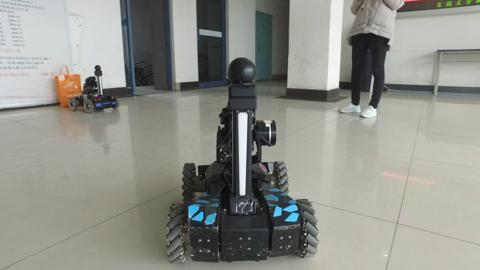bag: (52, 63, 84, 111)
chariot: (164, 54, 318, 265), (66, 63, 120, 116)
